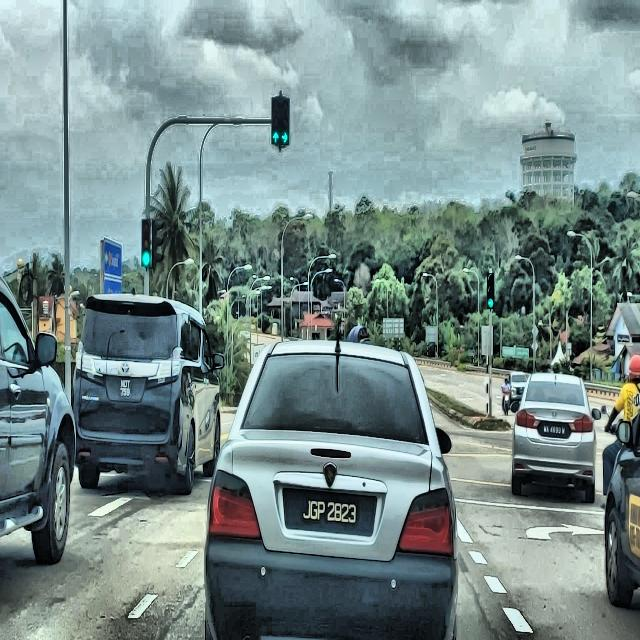green: (140, 218, 151, 268), (271, 95, 281, 144), (280, 97, 290, 145), (488, 272, 494, 308)
